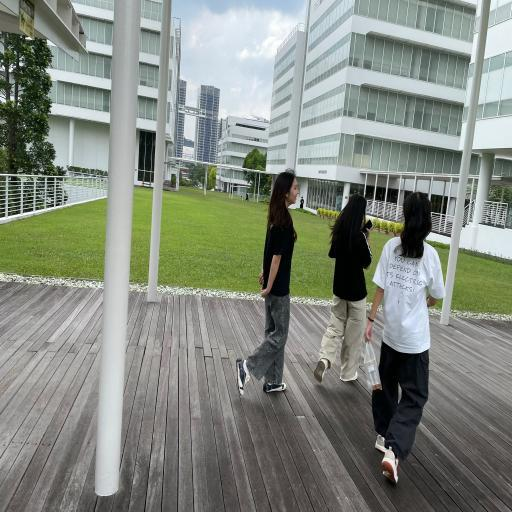person_right: (238, 168, 304, 412), (318, 180, 372, 387)
